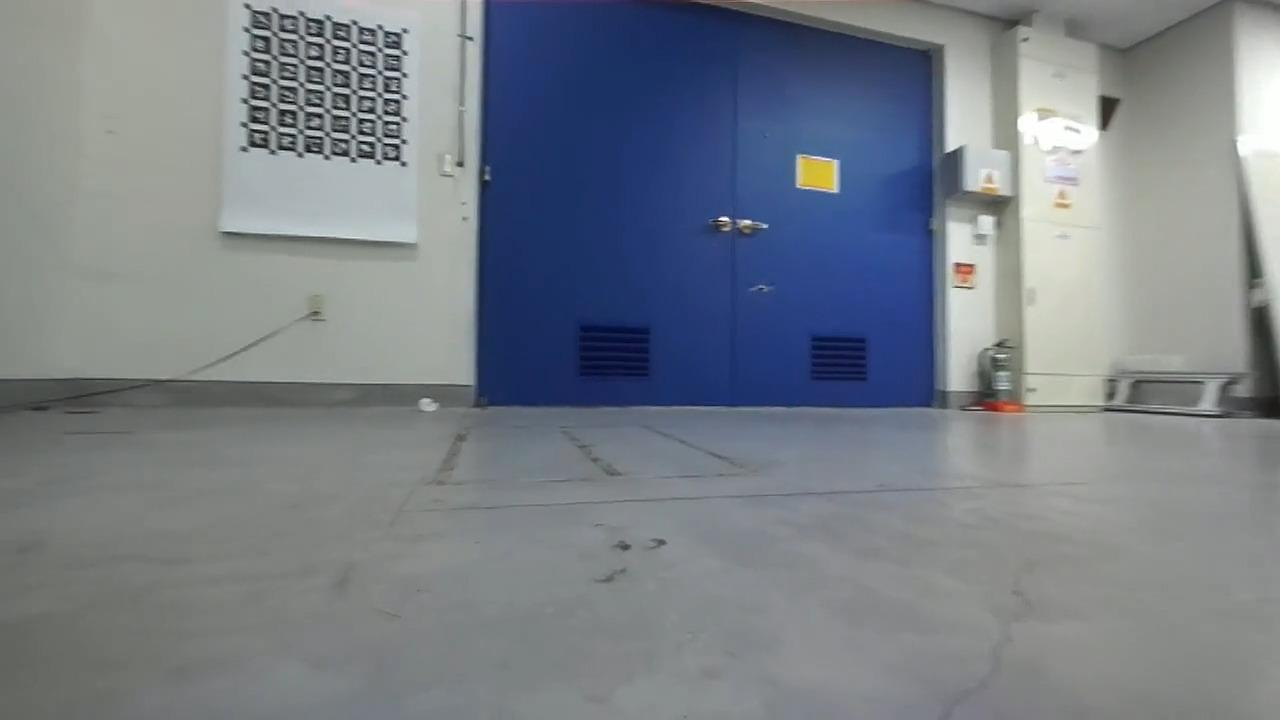crazyflie: (737, 276, 783, 301)
